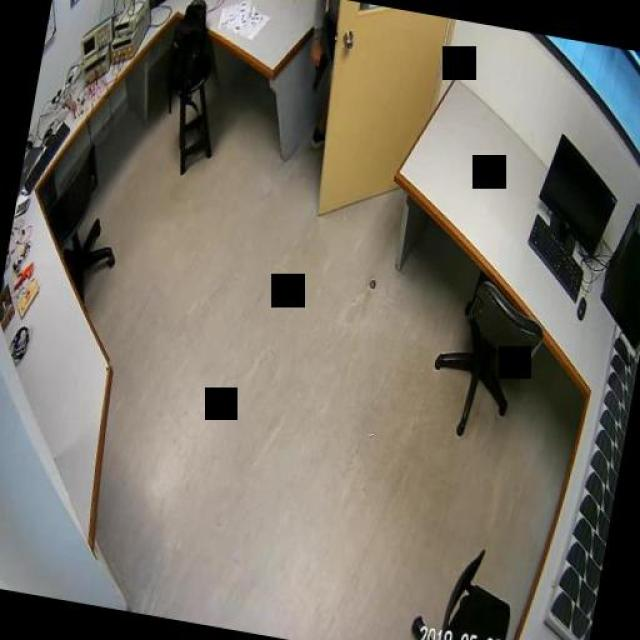gun: (302, 44, 328, 90)
